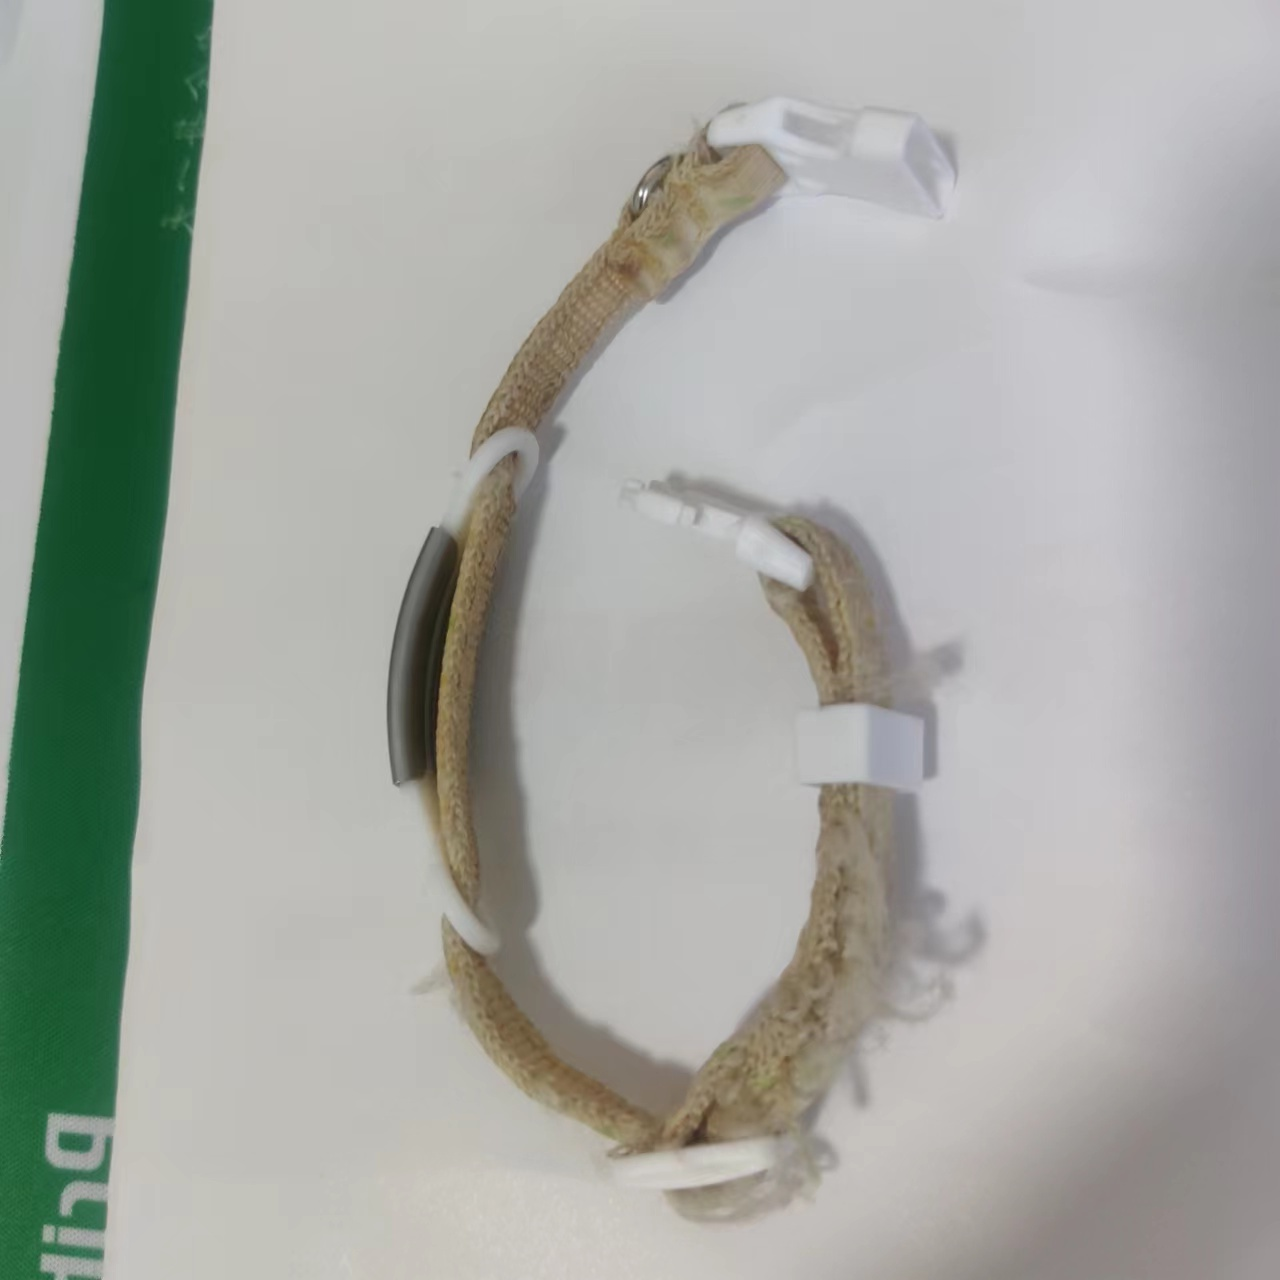9/可回收垃圾/绳子: (382, 95, 926, 1220)
